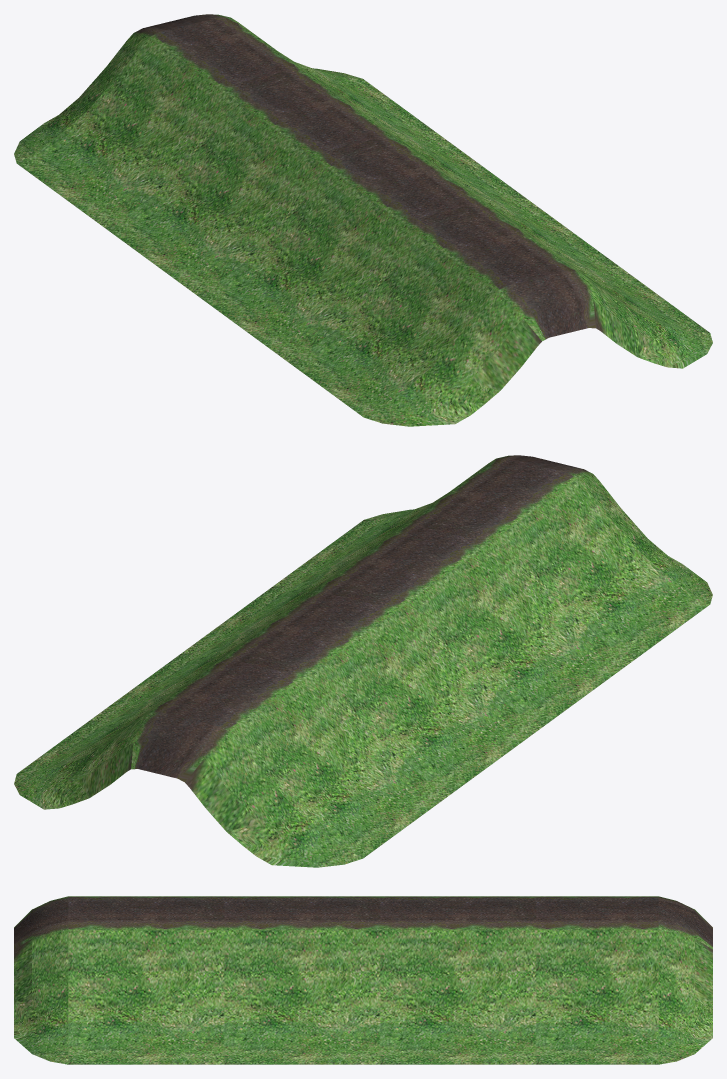
Rendered from 1nasip_65_TSM.gltf.
3 views of the same model, one above another, from view 1: azimuth 30°, elevation 25°; view 2: azimuth 150°, elevation 25°; view 3: azimuth 270°, elevation 25° (orthographic). The views are drawn at different scales.
Size of the model in its own units: 37.47 by 10.02 by 77.
1 material, 1 textured.
